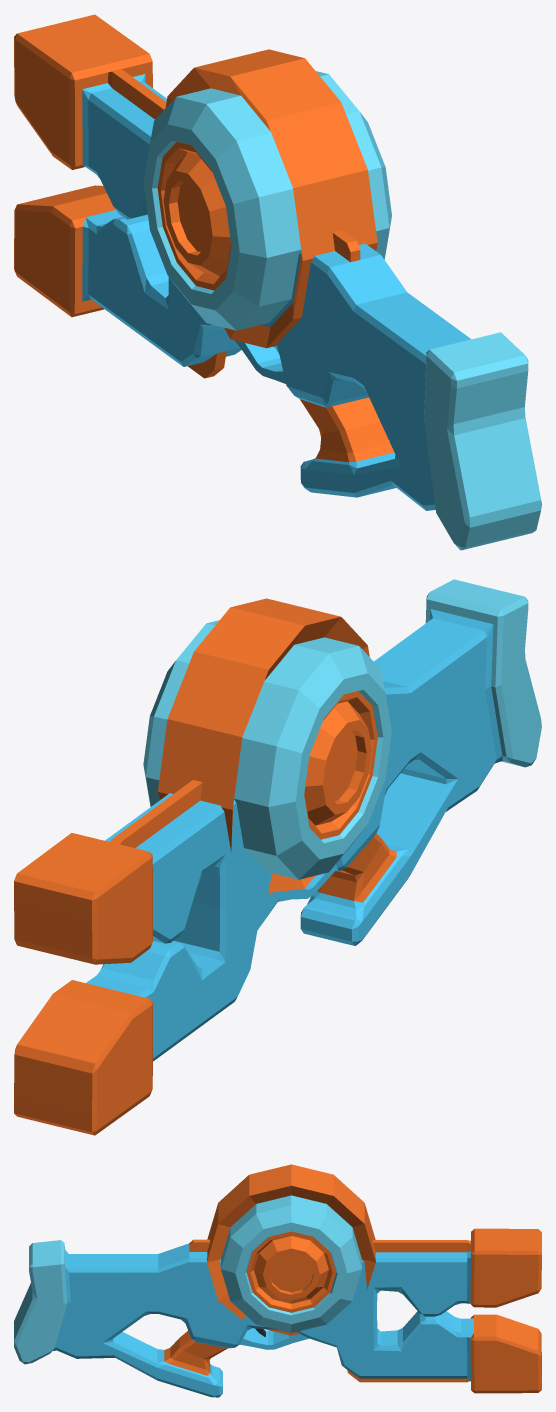
The model's file is LightningGun.gltf.
3 views of the same model, one above another, from view 1: azimuth 30°, elevation 25°; view 2: azimuth 150°, elevation 25°; view 3: azimuth 270°, elevation 25° (orthographic). The views are drawn at different scales.
Visible parts, largest first — view 1: Lightning Gun; view 2: Lightning Gun; view 3: Lightning Gun.
Part boxes in pixels (left/top/right/bottom): Lightning Gun: left=14, top=14, right=541, bottom=550; Lightning Gun: left=14, top=579, right=541, bottom=1135; Lightning Gun: left=14, top=1164, right=541, bottom=1397.
Bounding box in the file's own units: 0.9767 × 2.16 × 4.8.
